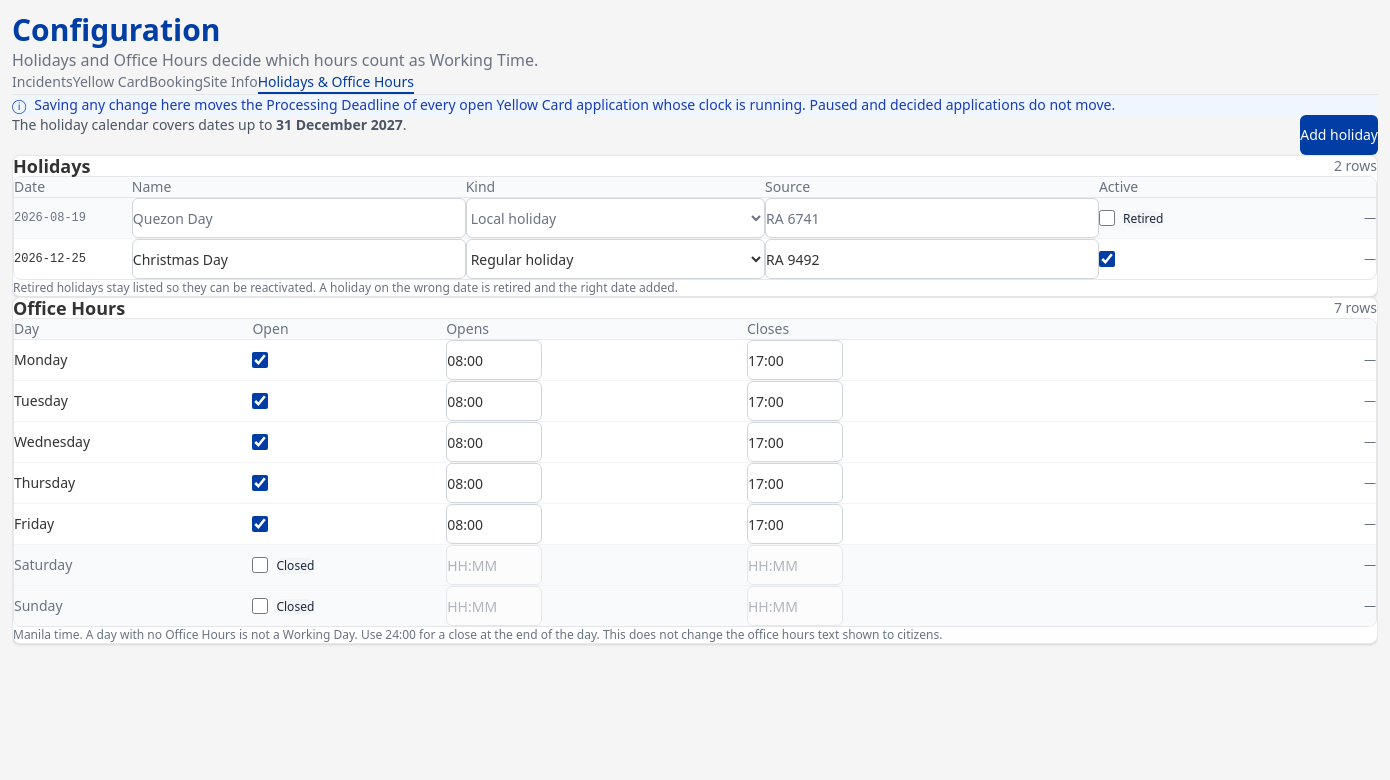
CalendarView — Holidays › says Not permitted on a 42501
Expected: the field showing "Christmas Day" is shown, [132,239,466,279]
Click the checkbox named "2026-12-25 active".
click(1107, 259)  # box [1099,251,1115,267]
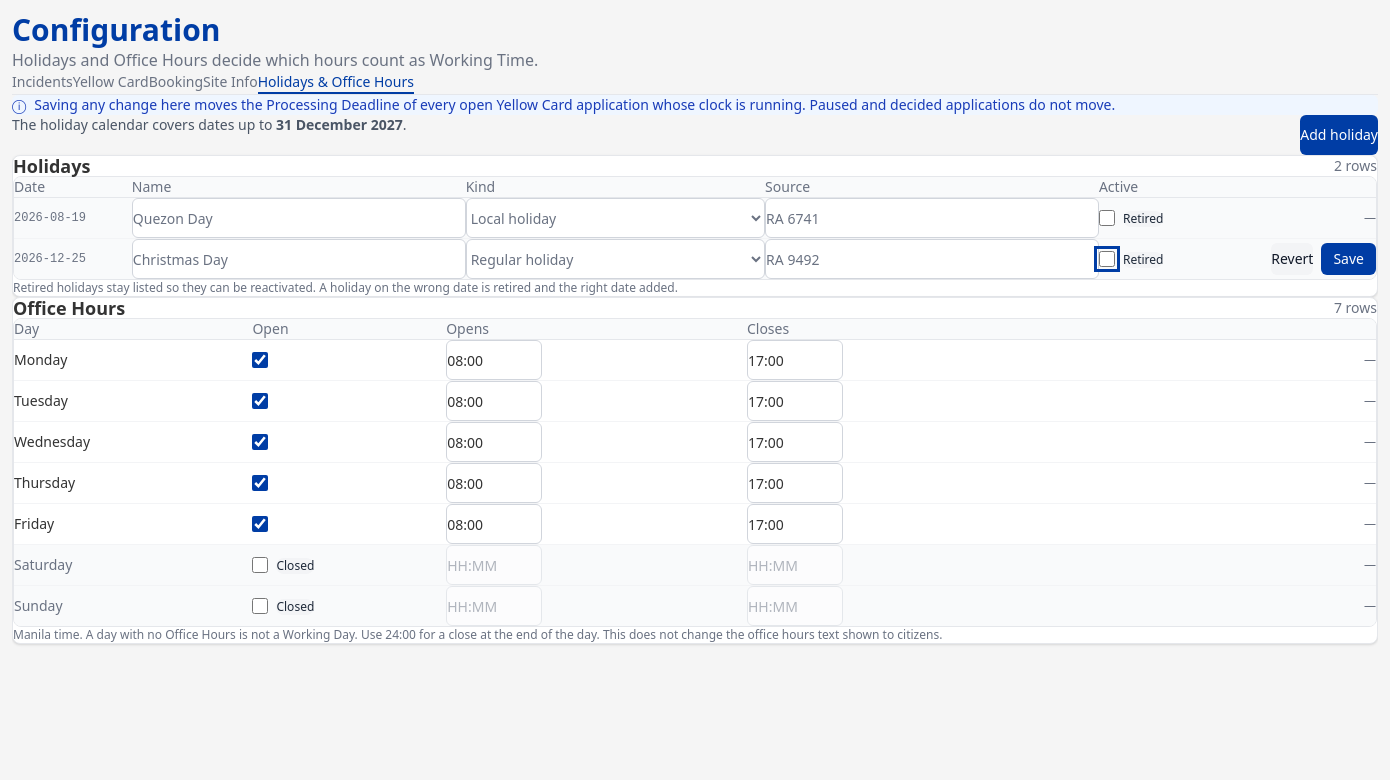
Click the button "Save".
click(1349, 259)  # box [1321,243,1376,275]
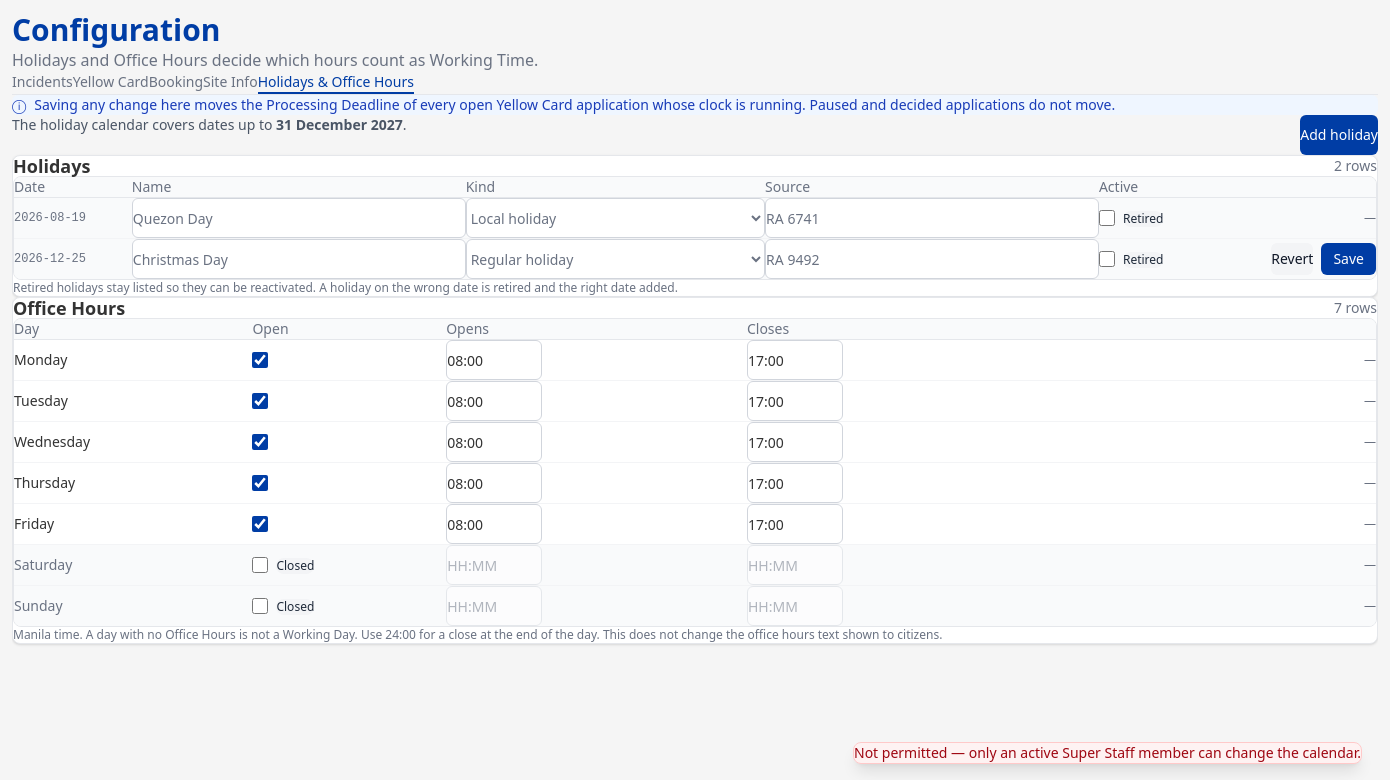
Expected: the message shows "Not permitted", [854,743,1361,762]
